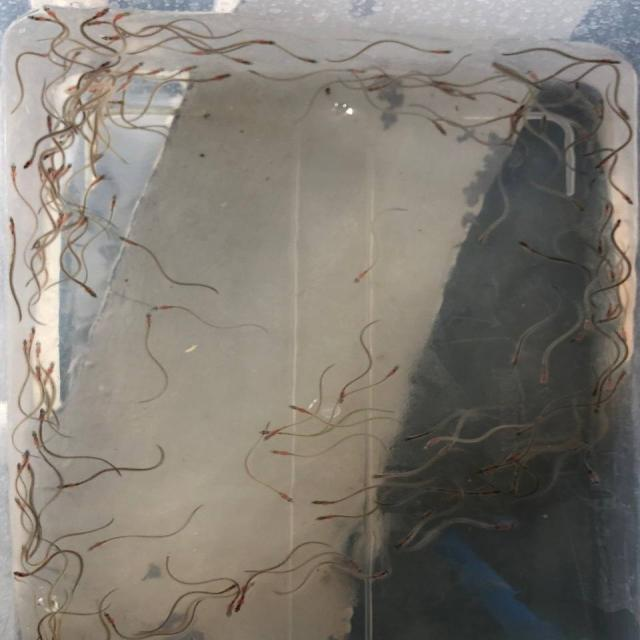glass_eel: (352, 262, 378, 286), (514, 238, 540, 255), (391, 534, 417, 550), (611, 368, 629, 391), (232, 593, 250, 616), (473, 226, 494, 245), (307, 496, 340, 508), (370, 567, 394, 583), (536, 366, 554, 387), (111, 10, 136, 25), (261, 427, 286, 442), (586, 468, 604, 488), (344, 556, 366, 572), (492, 520, 521, 532), (28, 429, 46, 448), (507, 348, 525, 367), (90, 6, 110, 22), (424, 434, 444, 450), (220, 581, 241, 596), (289, 404, 315, 416), (472, 464, 498, 476), (426, 76, 454, 87), (258, 428, 286, 439), (116, 75, 134, 92), (102, 608, 119, 626), (603, 265, 620, 283), (383, 362, 401, 379), (506, 478, 524, 495), (41, 6, 60, 22), (335, 386, 351, 405), (99, 33, 129, 43), (293, 52, 318, 64), (522, 69, 542, 84), (497, 93, 522, 105), (616, 324, 631, 344), (270, 448, 295, 460), (501, 450, 526, 462), (406, 429, 429, 442), (278, 490, 299, 504), (221, 602, 238, 619), (115, 234, 139, 246), (80, 283, 98, 299), (17, 544, 33, 562), (614, 106, 632, 122), (617, 189, 635, 205), (314, 512, 338, 524), (432, 83, 458, 94), (141, 68, 169, 78), (250, 37, 278, 47), (43, 360, 57, 380), (55, 480, 83, 490), (567, 330, 587, 344), (81, 18, 112, 27), (595, 314, 620, 325), (66, 50, 82, 67), (11, 496, 28, 512), (432, 120, 448, 137), (148, 303, 175, 313), (364, 84, 391, 94), (88, 152, 107, 166), (89, 174, 108, 188), (86, 539, 105, 553), (569, 200, 588, 214), (26, 13, 50, 24), (210, 72, 234, 83), (596, 56, 622, 66), (536, 114, 551, 131), (34, 362, 46, 383), (426, 47, 454, 56), (510, 104, 528, 118), (601, 375, 615, 393), (229, 56, 254, 66), (5, 216, 18, 235), (371, 471, 398, 480), (177, 64, 199, 75), (481, 489, 503, 500), (7, 163, 19, 183), (26, 326, 38, 346), (23, 462, 38, 478), (514, 424, 534, 436), (142, 312, 156, 329), (609, 217, 623, 234), (36, 407, 49, 425), (594, 157, 612, 170), (187, 49, 216, 57), (44, 114, 56, 133), (19, 339, 31, 358), (594, 237, 606, 256), (590, 378, 602, 397), (588, 106, 603, 121), (76, 216, 89, 233), (126, 62, 146, 73), (417, 510, 439, 520), (108, 194, 120, 212), (371, 72, 395, 81), (20, 157, 36, 170), (60, 164, 73, 180), (344, 67, 367, 76), (20, 449, 32, 466), (571, 78, 583, 95), (602, 201, 614, 218), (604, 301, 616, 318), (461, 91, 479, 102), (53, 163, 65, 179), (593, 400, 605, 416), (55, 209, 65, 228), (34, 341, 44, 360), (12, 569, 33, 578), (323, 80, 334, 97), (107, 97, 127, 106), (96, 60, 112, 71), (44, 166, 55, 182), (596, 98, 607, 114), (31, 50, 50, 59), (15, 462, 24, 481), (63, 210, 75, 224), (42, 152, 57, 162), (62, 85, 77, 94)
